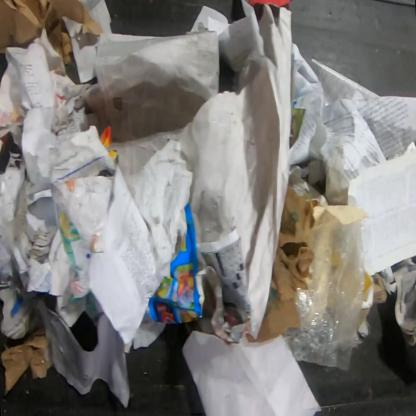cardboard: (257, 185, 315, 343), (0, 321, 53, 396), (357, 273, 387, 330)
rigid_plastic: (244, 0, 292, 9)
soft_plastic: (283, 218, 371, 372), (348, 204, 364, 210)
